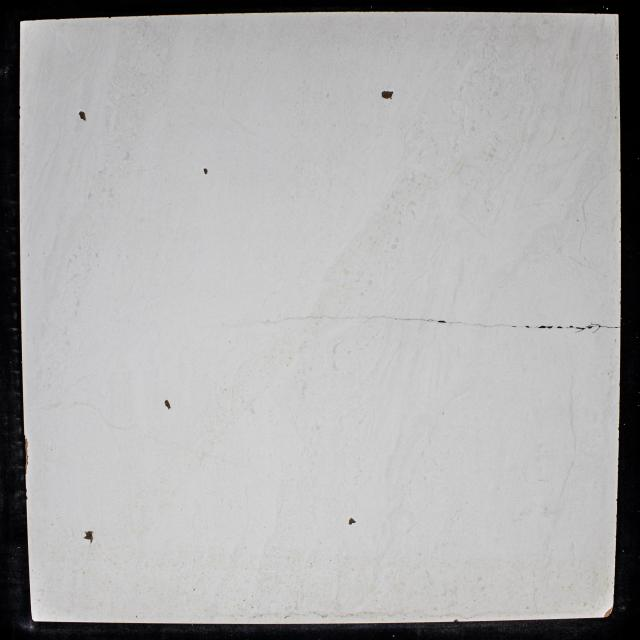edge-chipping: (24, 438, 29, 474), (604, 606, 614, 618), (453, 619, 459, 623)
hole: (83, 529, 95, 543), (380, 90, 394, 101), (78, 110, 87, 122), (164, 398, 172, 410), (348, 518, 358, 526), (203, 167, 208, 176), (437, 320, 446, 324), (537, 325, 546, 329), (556, 325, 562, 329), (547, 325, 552, 329), (569, 325, 574, 329), (587, 326, 592, 329)
line: (306, 314, 435, 324), (447, 320, 525, 328), (601, 325, 619, 329)
